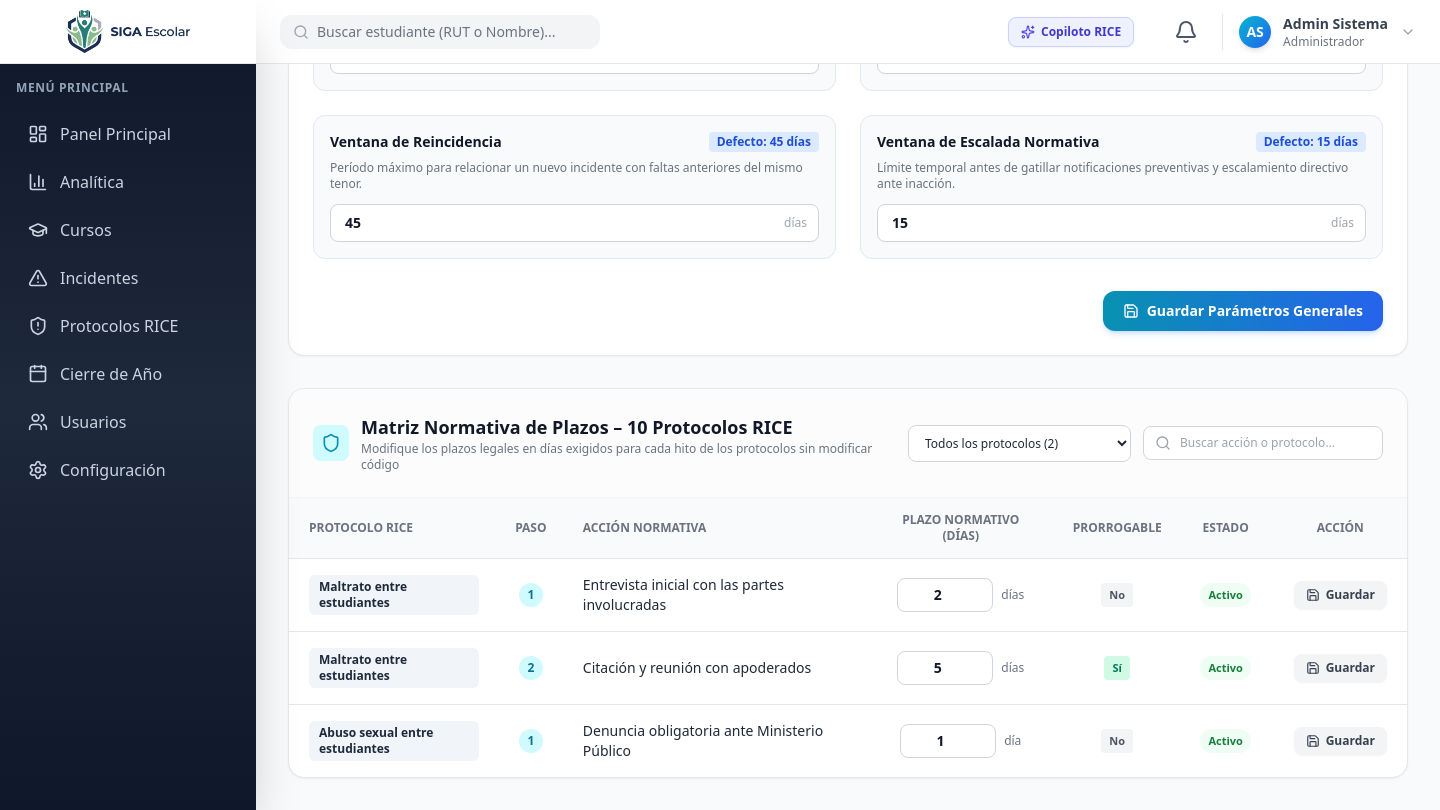
Test: ConfiguracionPage (HU 5.3) › filtra la tabla de reglas al cambiar el selector de protocolo
(page scrolled)
expect the text "Denuncia obligatoria ante Ministerio Público" is shown: met, box [563,704,865,777]
expect the text "Entrevista inicial con las partes involucradas" is shown: met, box [563,558,865,632]
Step 1. Select "Abuso sexual entre estudiantes" in the dropdown named "Filtrar por tipo de protocolo" → (1020, 443), box [908,424,1131,462]
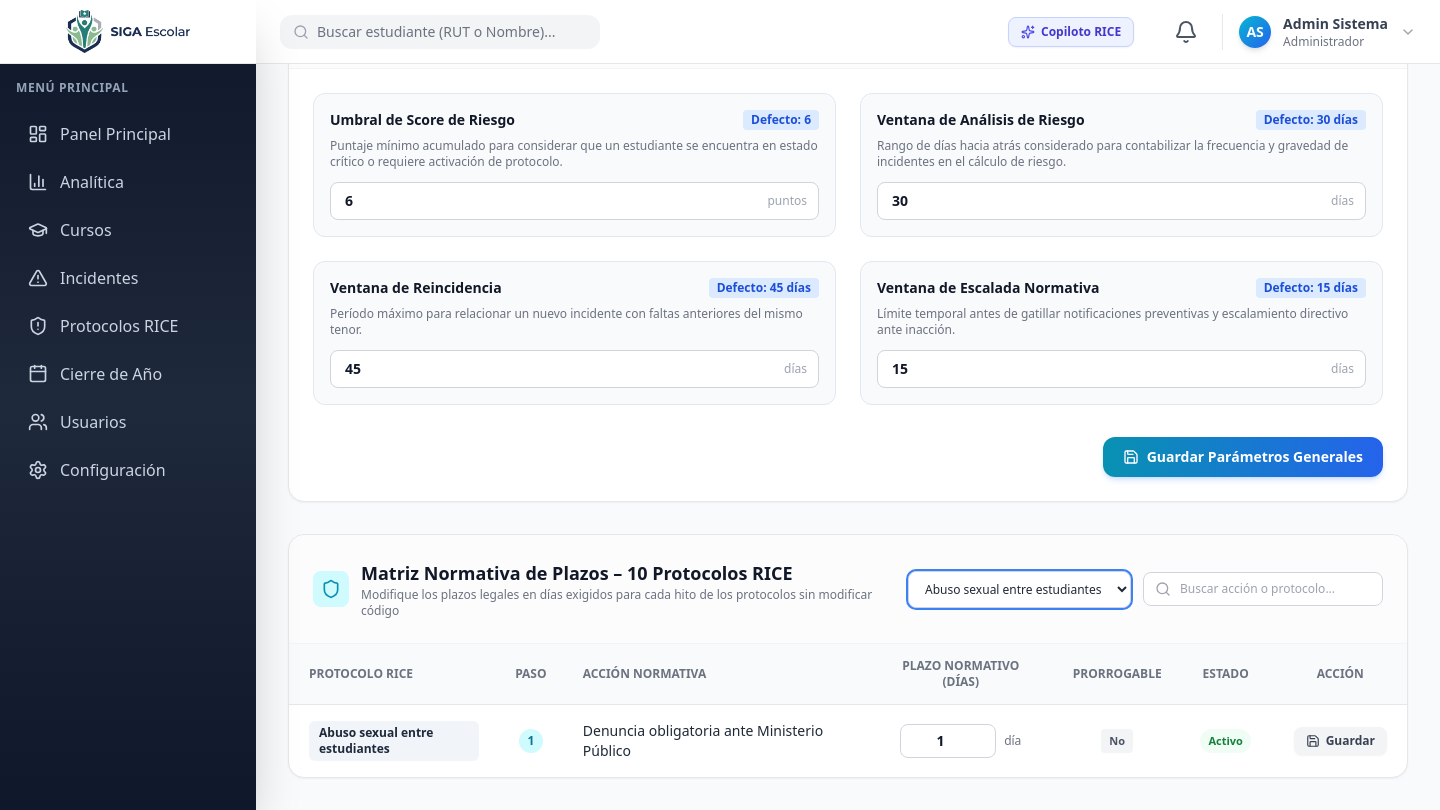
expect the text "Denuncia obligatoria ante Ministerio Público" is shown: met, box [563,704,865,777]
expect the text "Entrevista inicial con las partes involucradas" is gone: met
